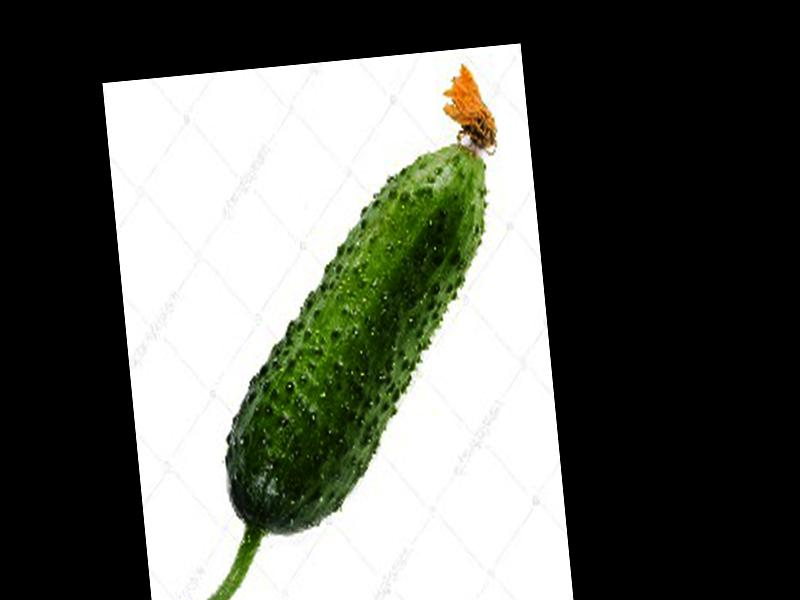Cucumber: (129, 60, 540, 600)
